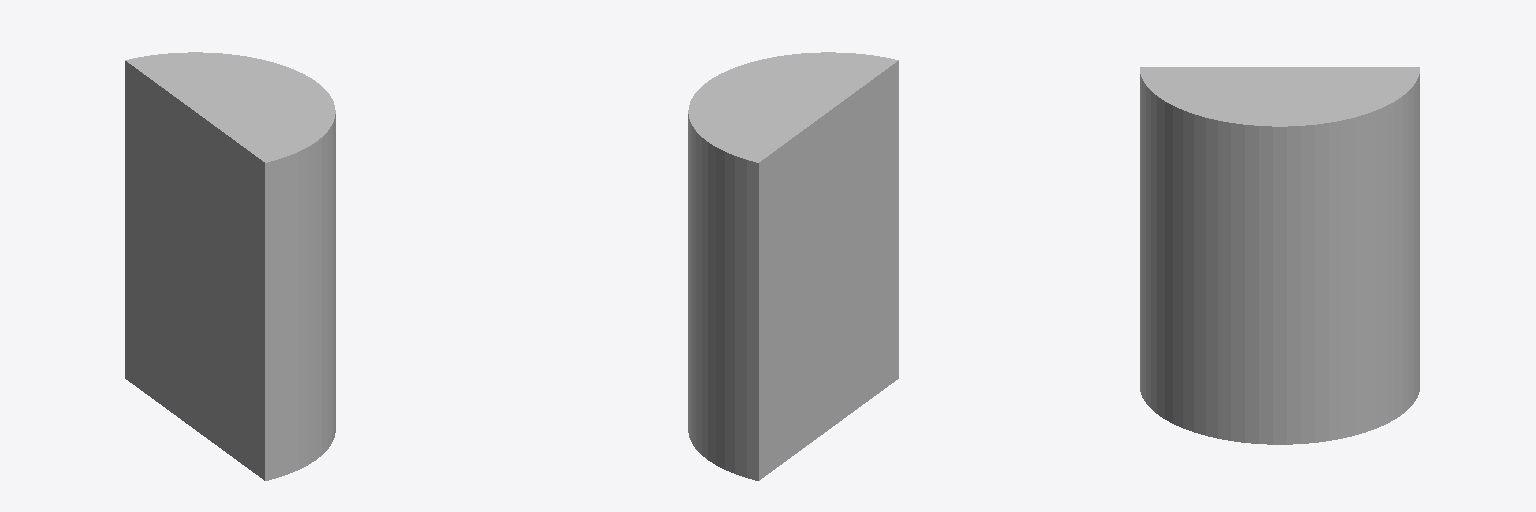
Rendered from MotorRight.obj.
The picture shows the model from 3 angles: view 1: azimuth 30°, elevation 25°; view 2: azimuth 150°, elevation 25°; view 3: azimuth 270°, elevation 25°; orthographic projection.
Visible parts, largest first — view 1: MotorRight; view 2: MotorRight; view 3: MotorRight.
Part boxes in pixels (left/top/right/bottom): MotorRight: left=125, top=52, right=335, bottom=480; MotorRight: left=688, top=52, right=898, bottom=480; MotorRight: left=1140, top=67, right=1419, bottom=444.
Size of the model in its own units: 3.99 by 10 by 8.